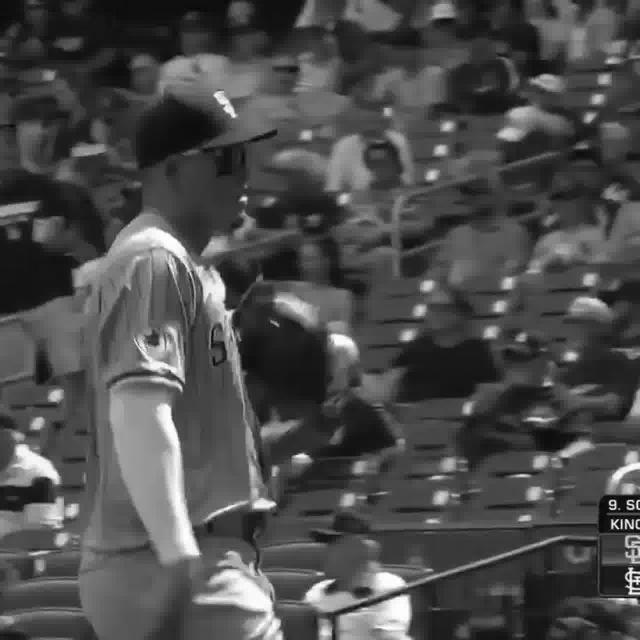baseball_glove: (235, 281, 348, 428)
